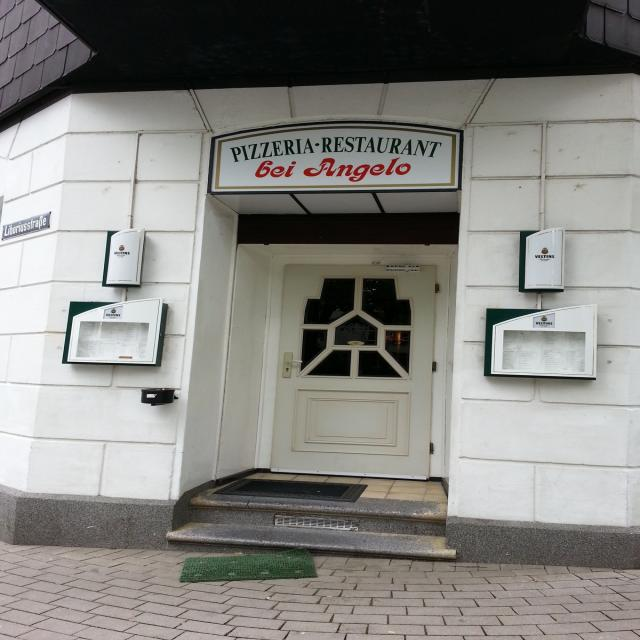AVOID: (160, 498, 461, 562)
